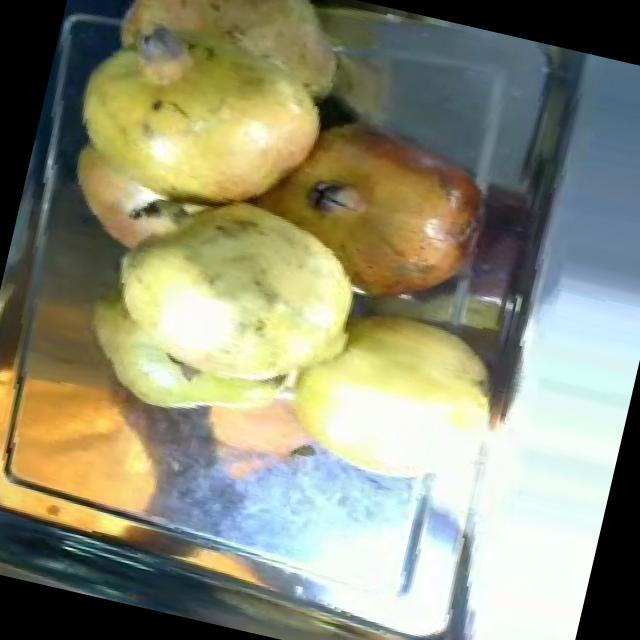fruit: (55, 153, 382, 459), (250, 271, 538, 524), (264, 92, 518, 334)
